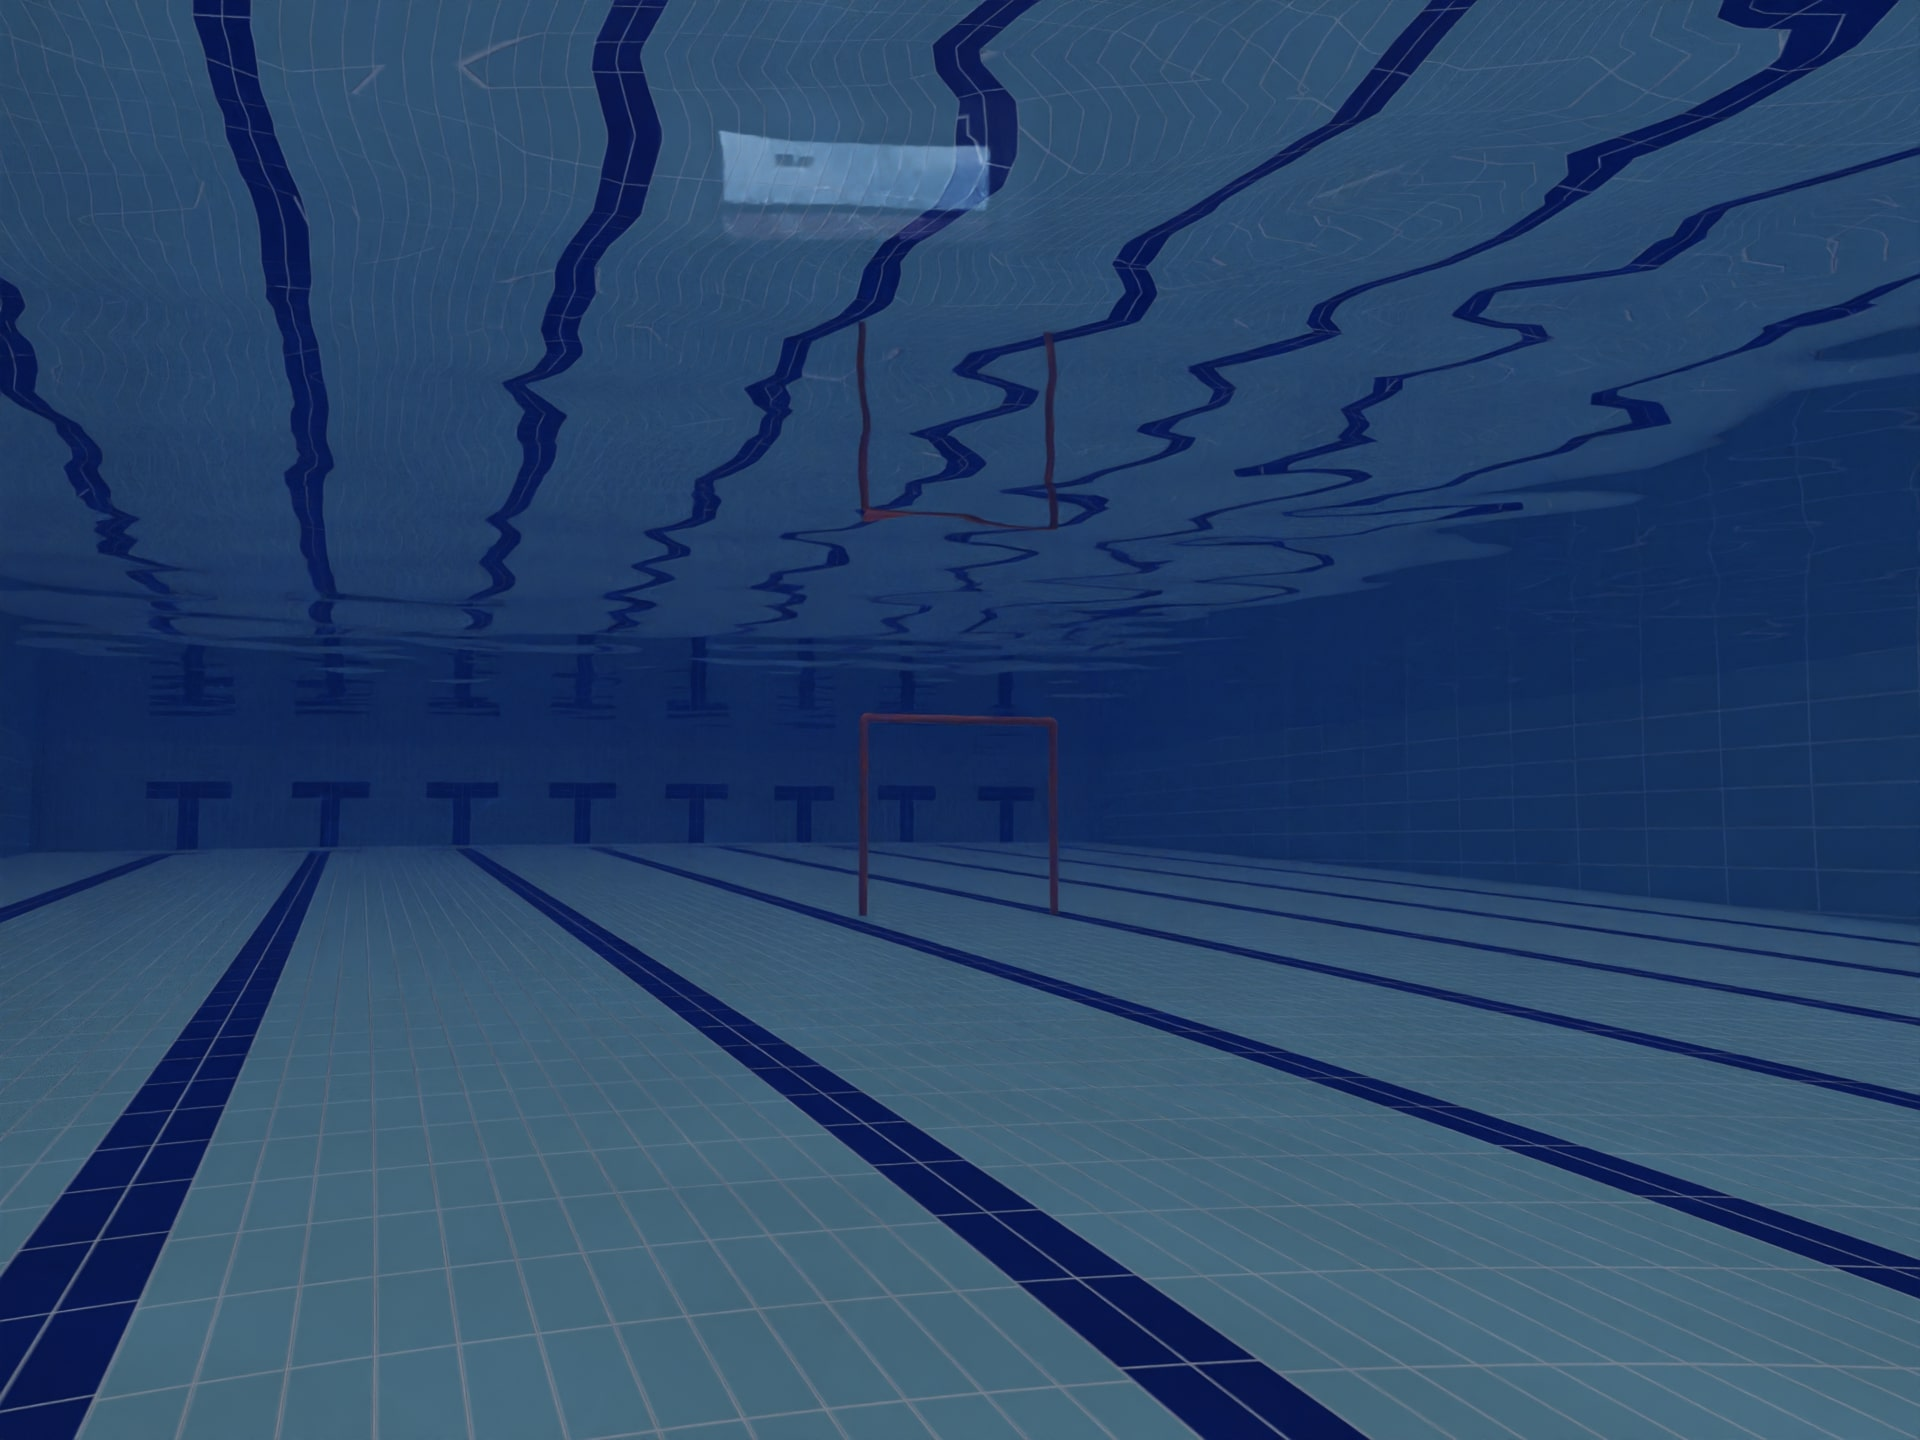gate: (841, 690, 1102, 914)
